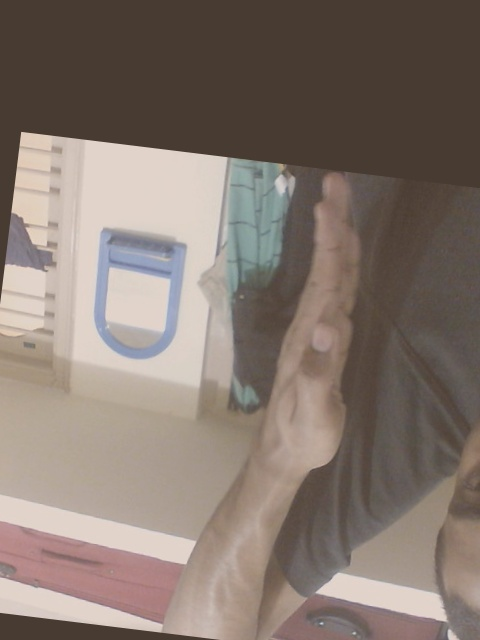hand: (261, 170, 365, 478)
